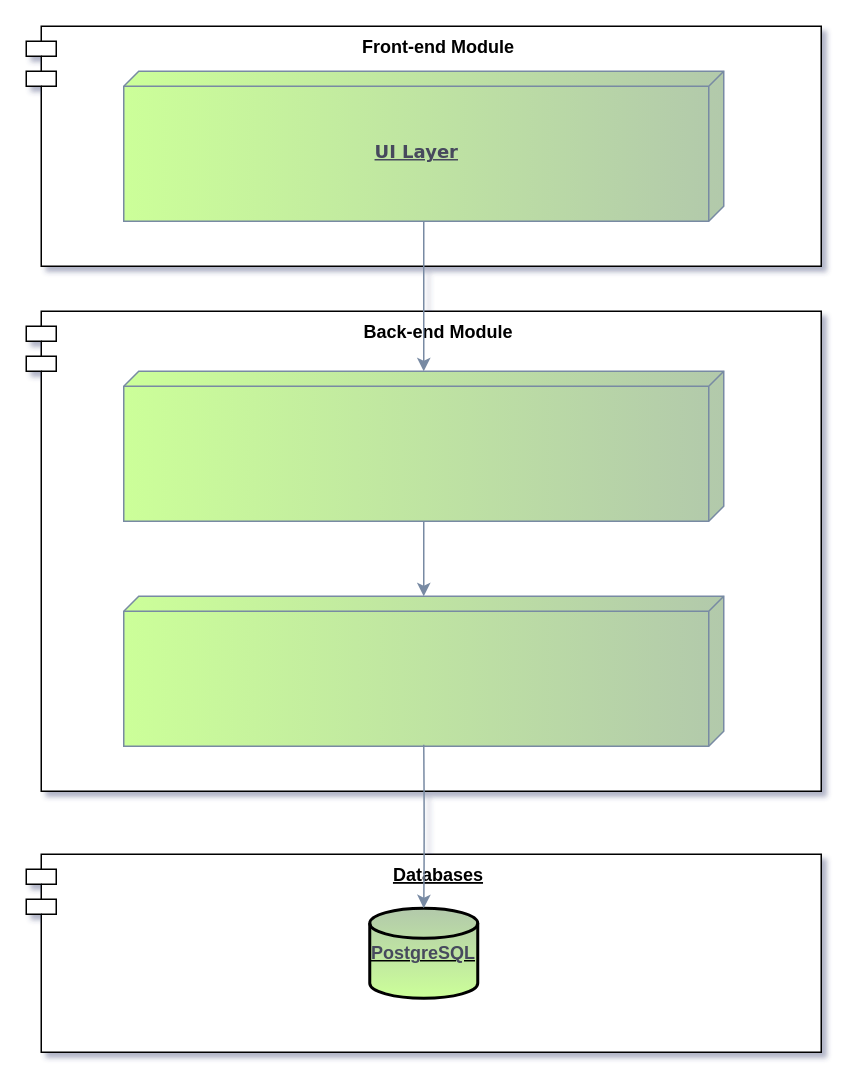
This 857x1088 diagram has some shape labels left out. The centre of each missing label's shape, as x and y in pixels:
"Data Access Layer" belongs at (x=423, y=670).
"Domain Layer" belongs at (x=423, y=445).
